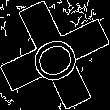O_NE: (23, 24, 87, 86)
